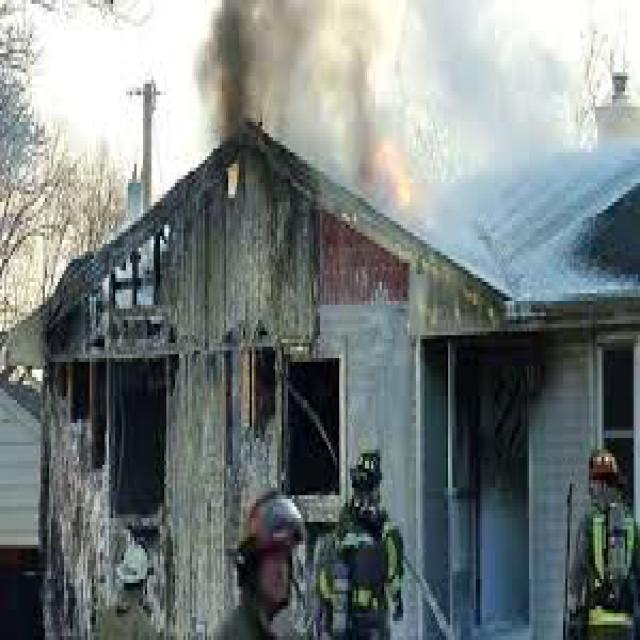smoke: (209, 4, 580, 282)
